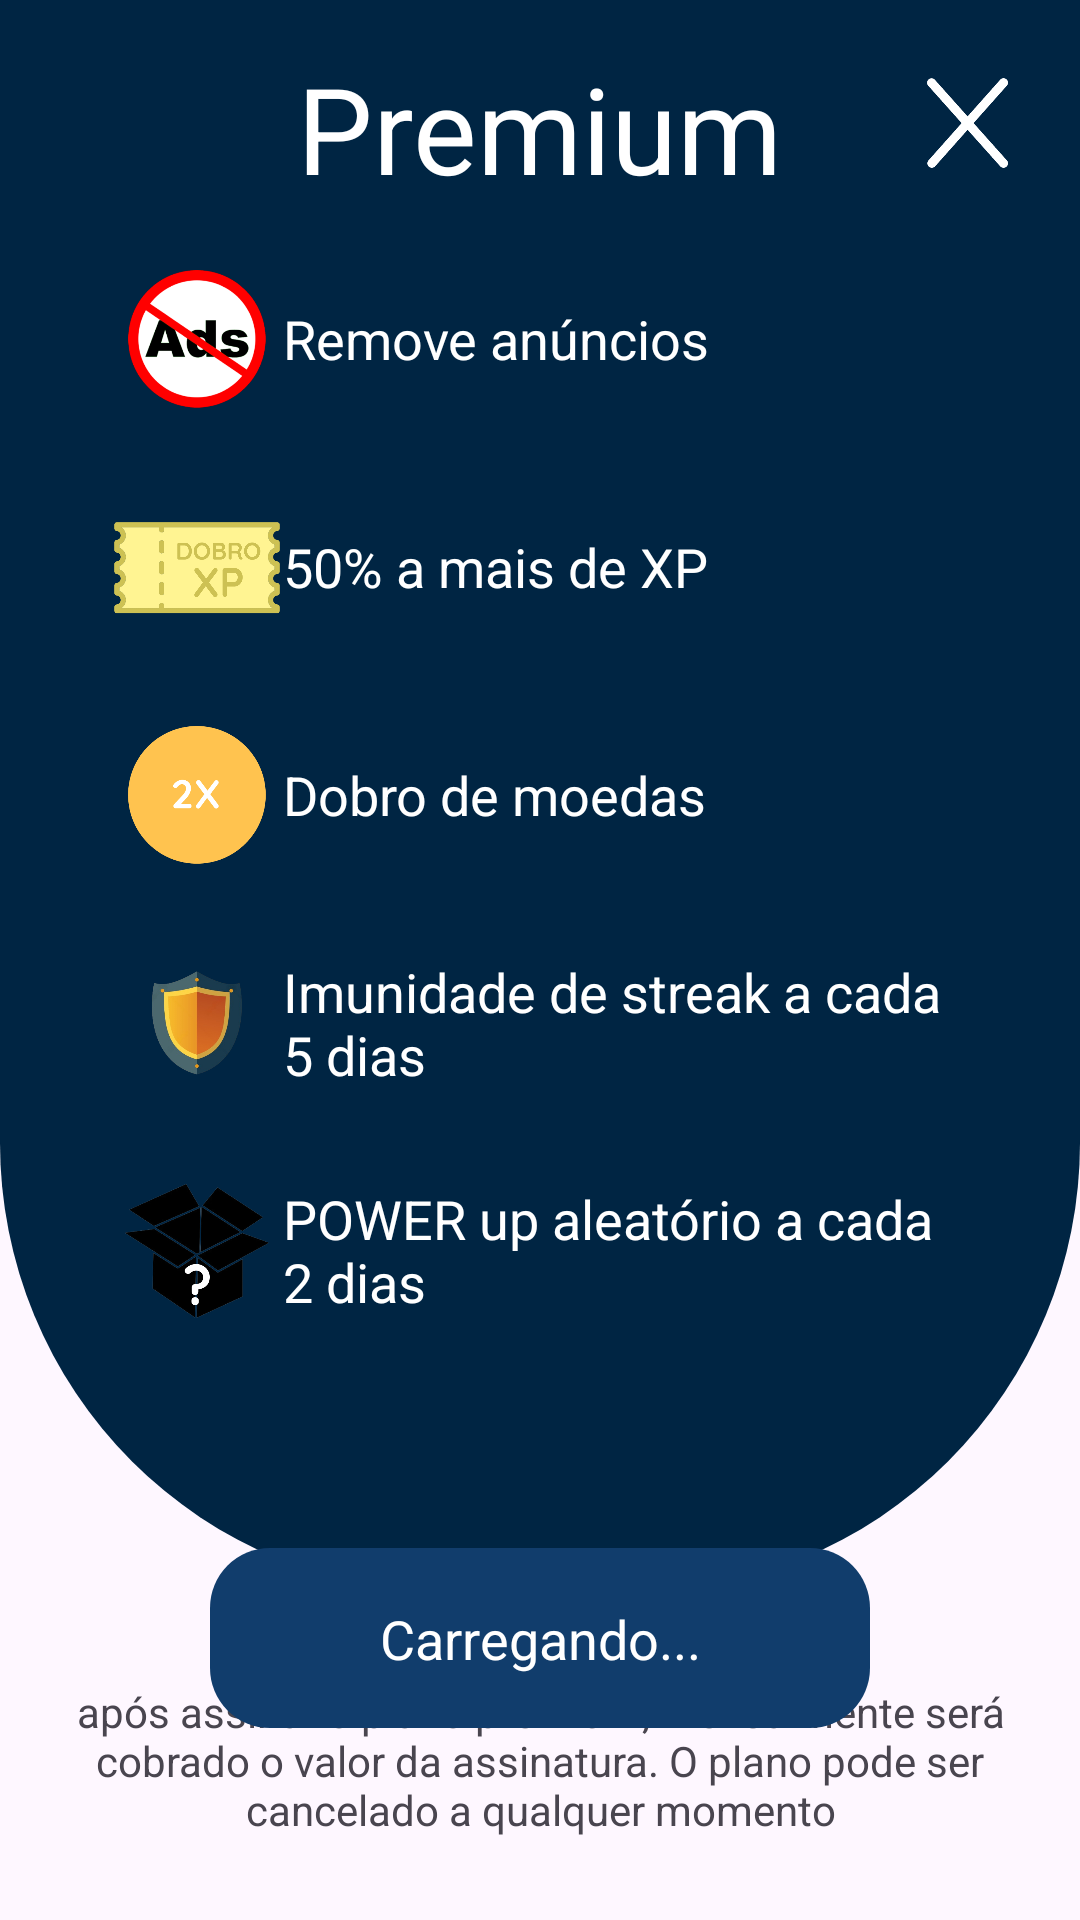

Named icons in this screenshot (1080px x 1920px) and their centers, (x,y):
block ads: (197,339)
escudo: (197,1022)
powerup aleatorio: (196,1251)
